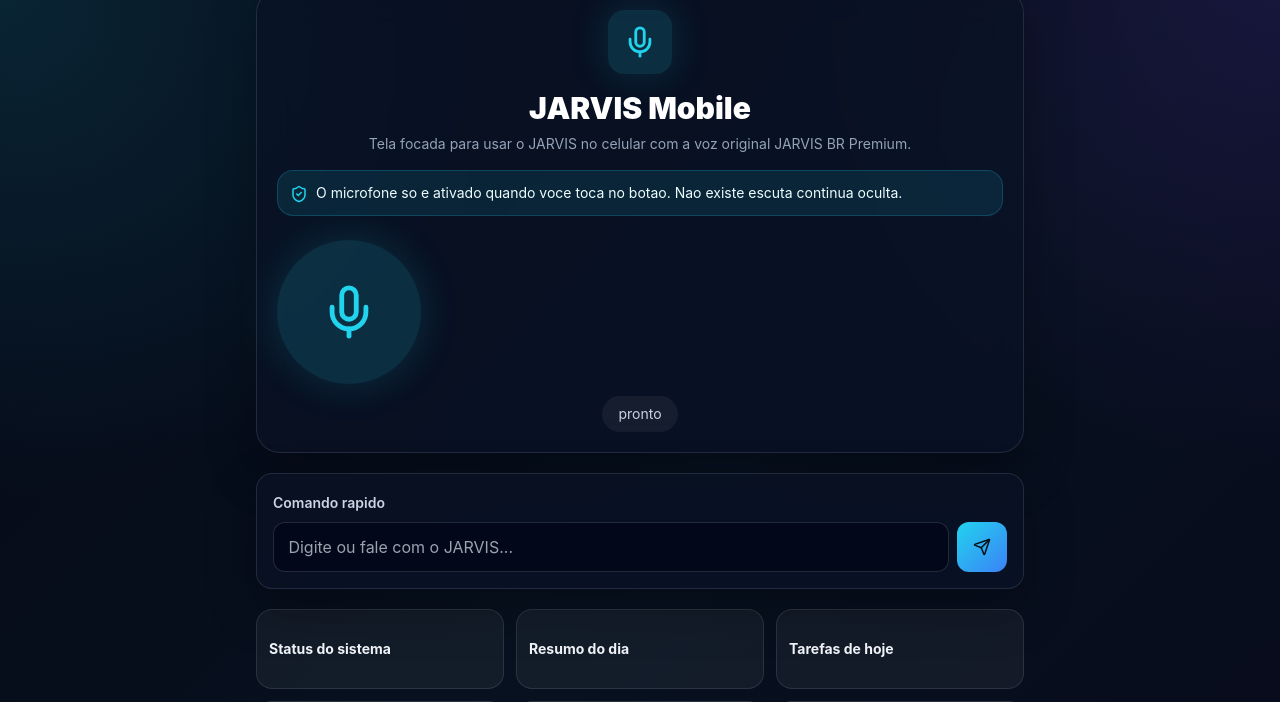
Phase 5 and 6 pages › renders mobile assistant and sends quick command
The width and height of the screenshot is (1280, 702).
Expected: the heading "JARVIS Mobile" is shown, x1=529 y1=90 x2=751 y2=126
Expected: the text "O microfone so e ativado" is shown, x1=316 y1=184 x2=902 y2=201
Step 1. Click the button "Status do sistema" → (380, 649), box x1=256 y1=609 x2=504 y2=689
(page scrolled)
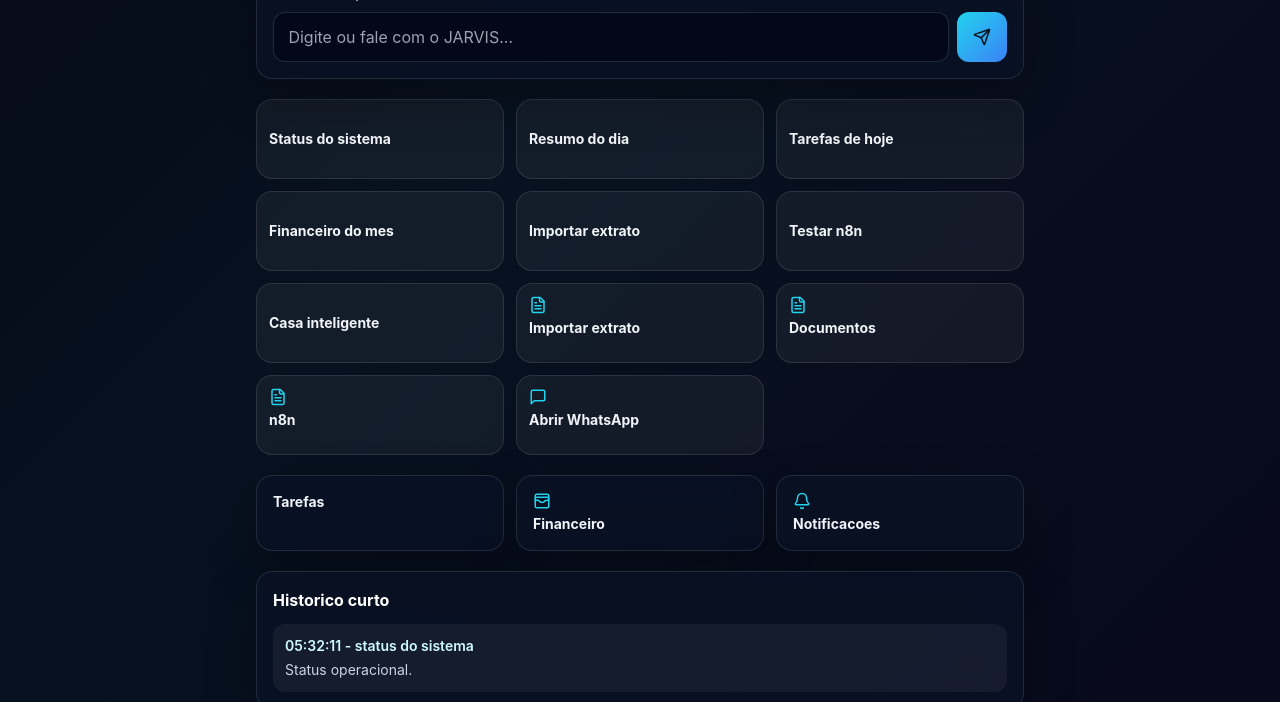
Result: the text "Status operacional." is shown at x1=285 y1=661 x2=412 y2=678
